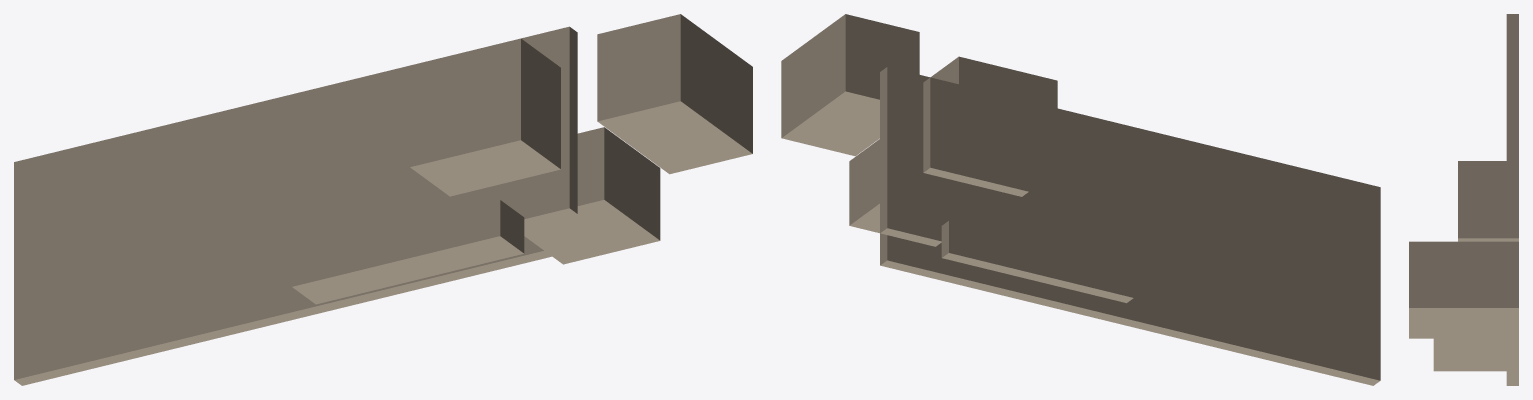
Rendered from SM_RexaHarborArrival_Alpha.gltf.
The picture shows the model from 3 angles, left to right: view 1: azimuth 30°, elevation 25°; view 2: azimuth 150°, elevation 25°; view 3: azimuth 270°, elevation 25°; orthographic projection. The views are drawn at different scales.
Parts seen in each view (by area): view 1: SM_RexaHarborArrival_Alpha; view 2: SM_RexaHarborArrival_Alpha; view 3: SM_RexaHarborArrival_Alpha.
Boxes of the visible parts, x1,y1,x2,y2 form: SM_RexaHarborArrival_Alpha: (14,14,752,385); SM_RexaHarborArrival_Alpha: (781,14,1380,385); SM_RexaHarborArrival_Alpha: (1409,14,1518,385).
Size of the model in its own units: 9.6 by 3 by 1.8.
